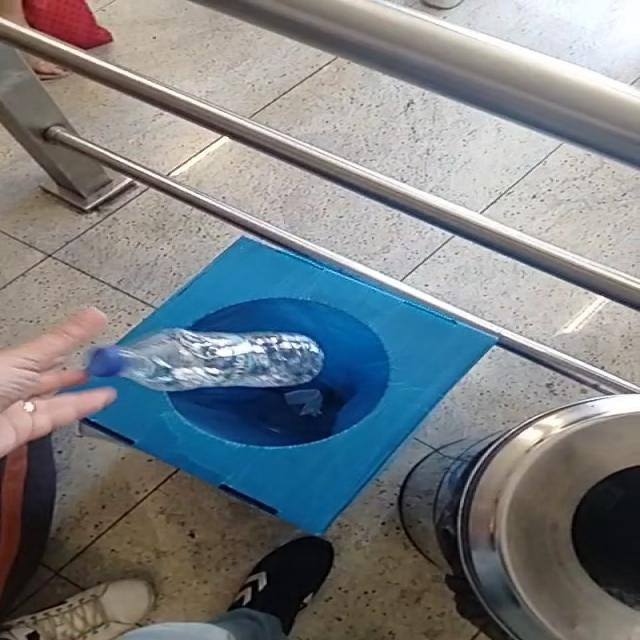plastic: (87, 329, 323, 392)
